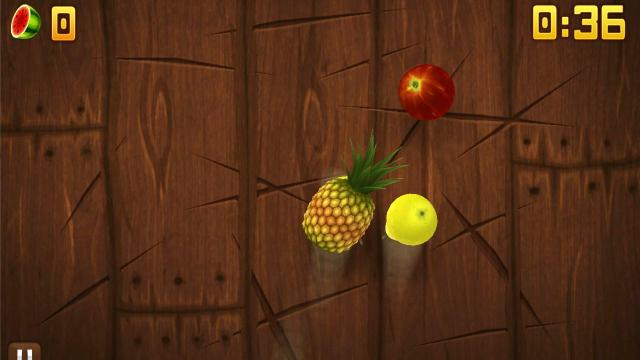fruit: (302, 128, 408, 252), (397, 63, 455, 121), (384, 192, 436, 245)
ignore: (9, 3, 43, 41)
